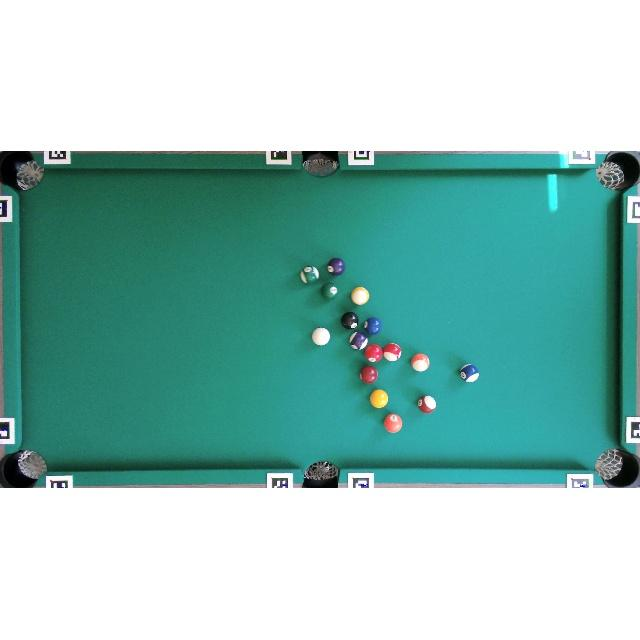cue ball: (312, 328, 330, 346)
other: (350, 286, 370, 306), (460, 363, 480, 382), (348, 332, 368, 351), (383, 413, 402, 433), (326, 257, 346, 276), (300, 265, 320, 284), (383, 343, 402, 362), (365, 343, 383, 363), (370, 389, 388, 408), (411, 353, 430, 371), (417, 395, 436, 413), (321, 282, 339, 300), (364, 317, 382, 335), (360, 366, 378, 384), (341, 312, 359, 329)
